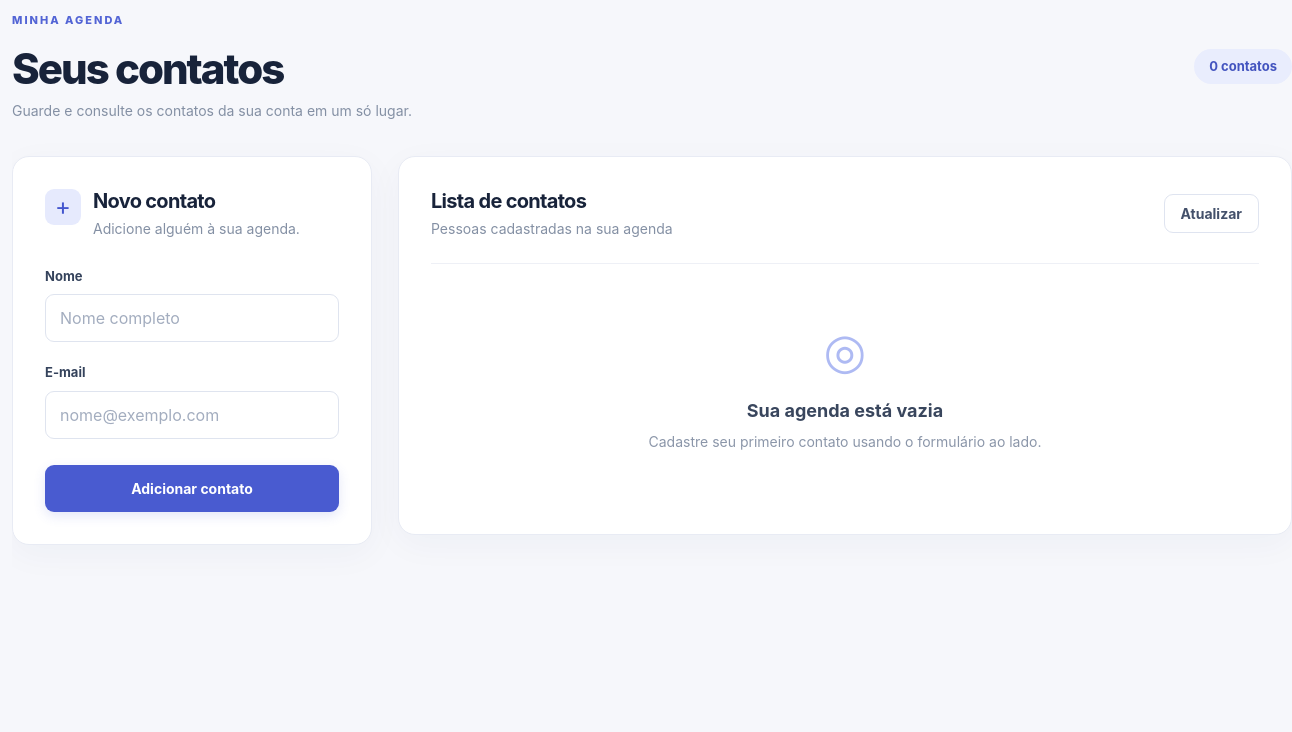
Contatos › cria um contato e atualiza a lista
Expected: the heading "Sua agenda está vazia" is shown, 747,400 -> 943,422
In the field labelled "Nome": [192, 318] box 45,294 -> 339,342, type "Ana"
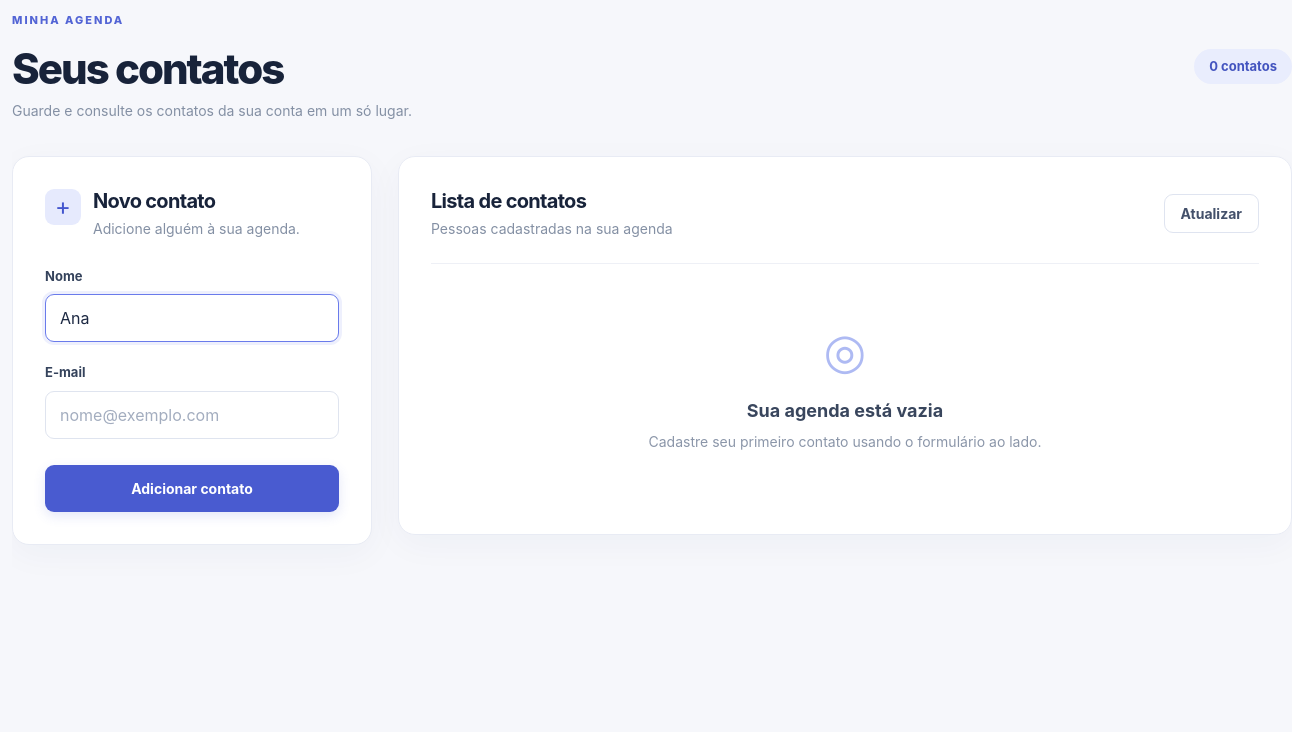
In the field labelled "E-mail": [192, 415] box 45,391 -> 339,439, type "ana@exemplo.com"
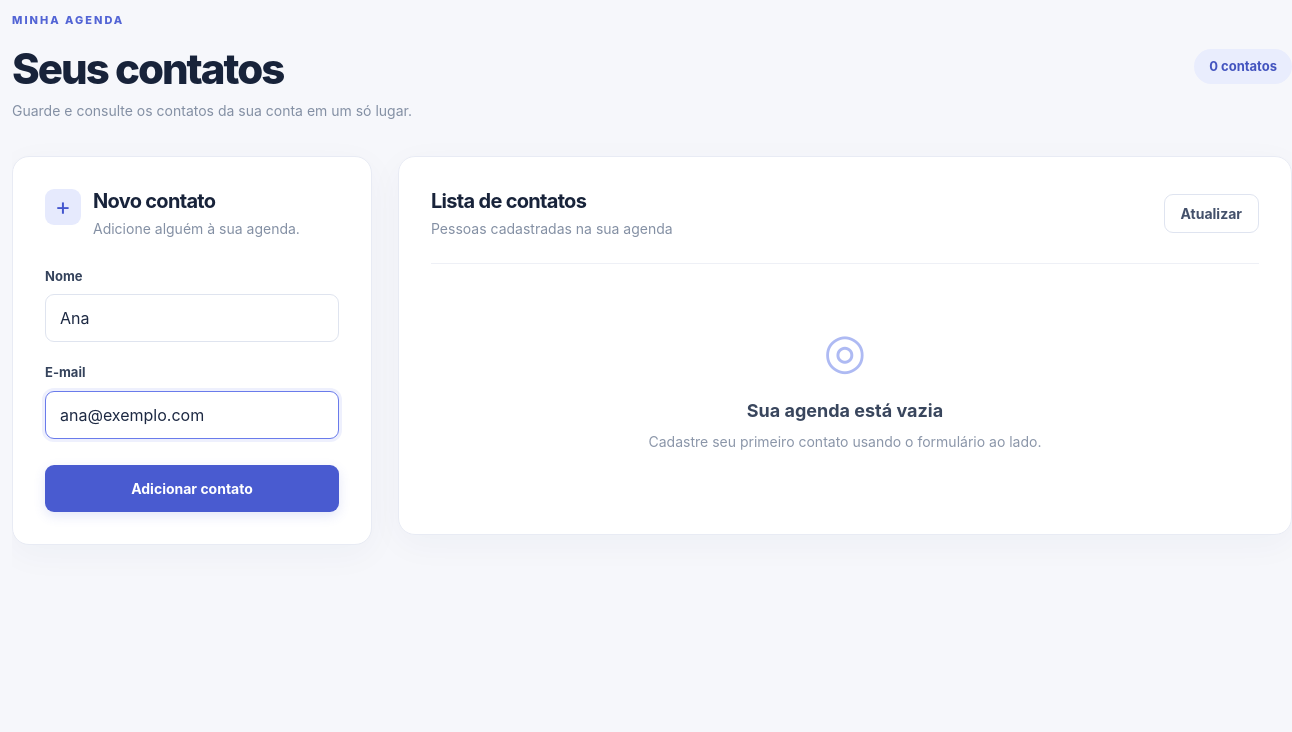
Click the button "Adicionar contato": [192, 488] box 45,465 -> 339,512
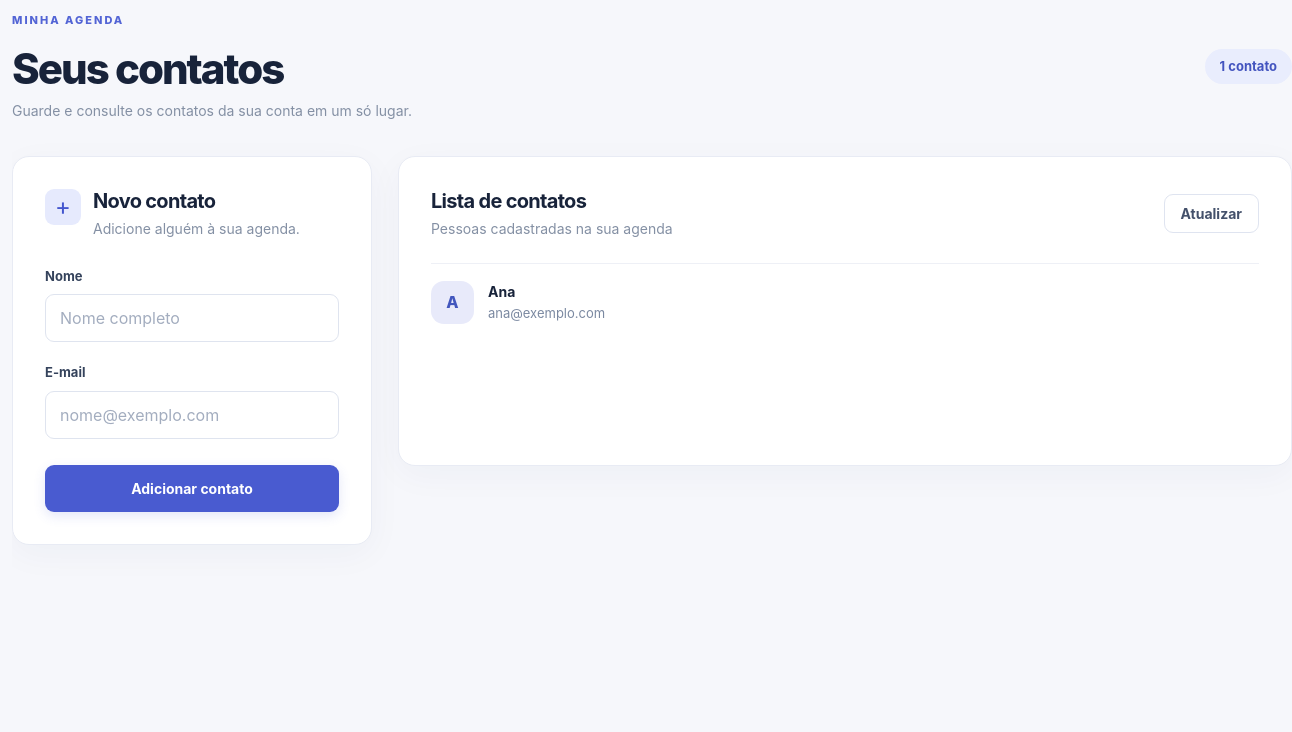
Now the text "Ana" is shown, box 488,283 -> 515,300
Now the link "ana@exemplo.com" is shown, box 488,304 -> 605,324
